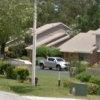Car: (37, 50, 72, 79)
